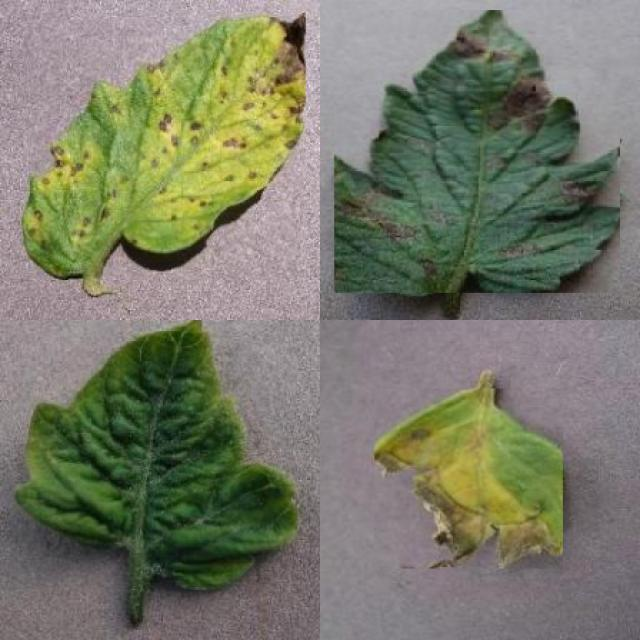Early Blight: (334, 10, 620, 293)
Late Blight: (374, 388, 563, 568)
Septoria: (23, 14, 306, 279)
Yellow Leaf Curl Virus: (10, 320, 297, 591)
